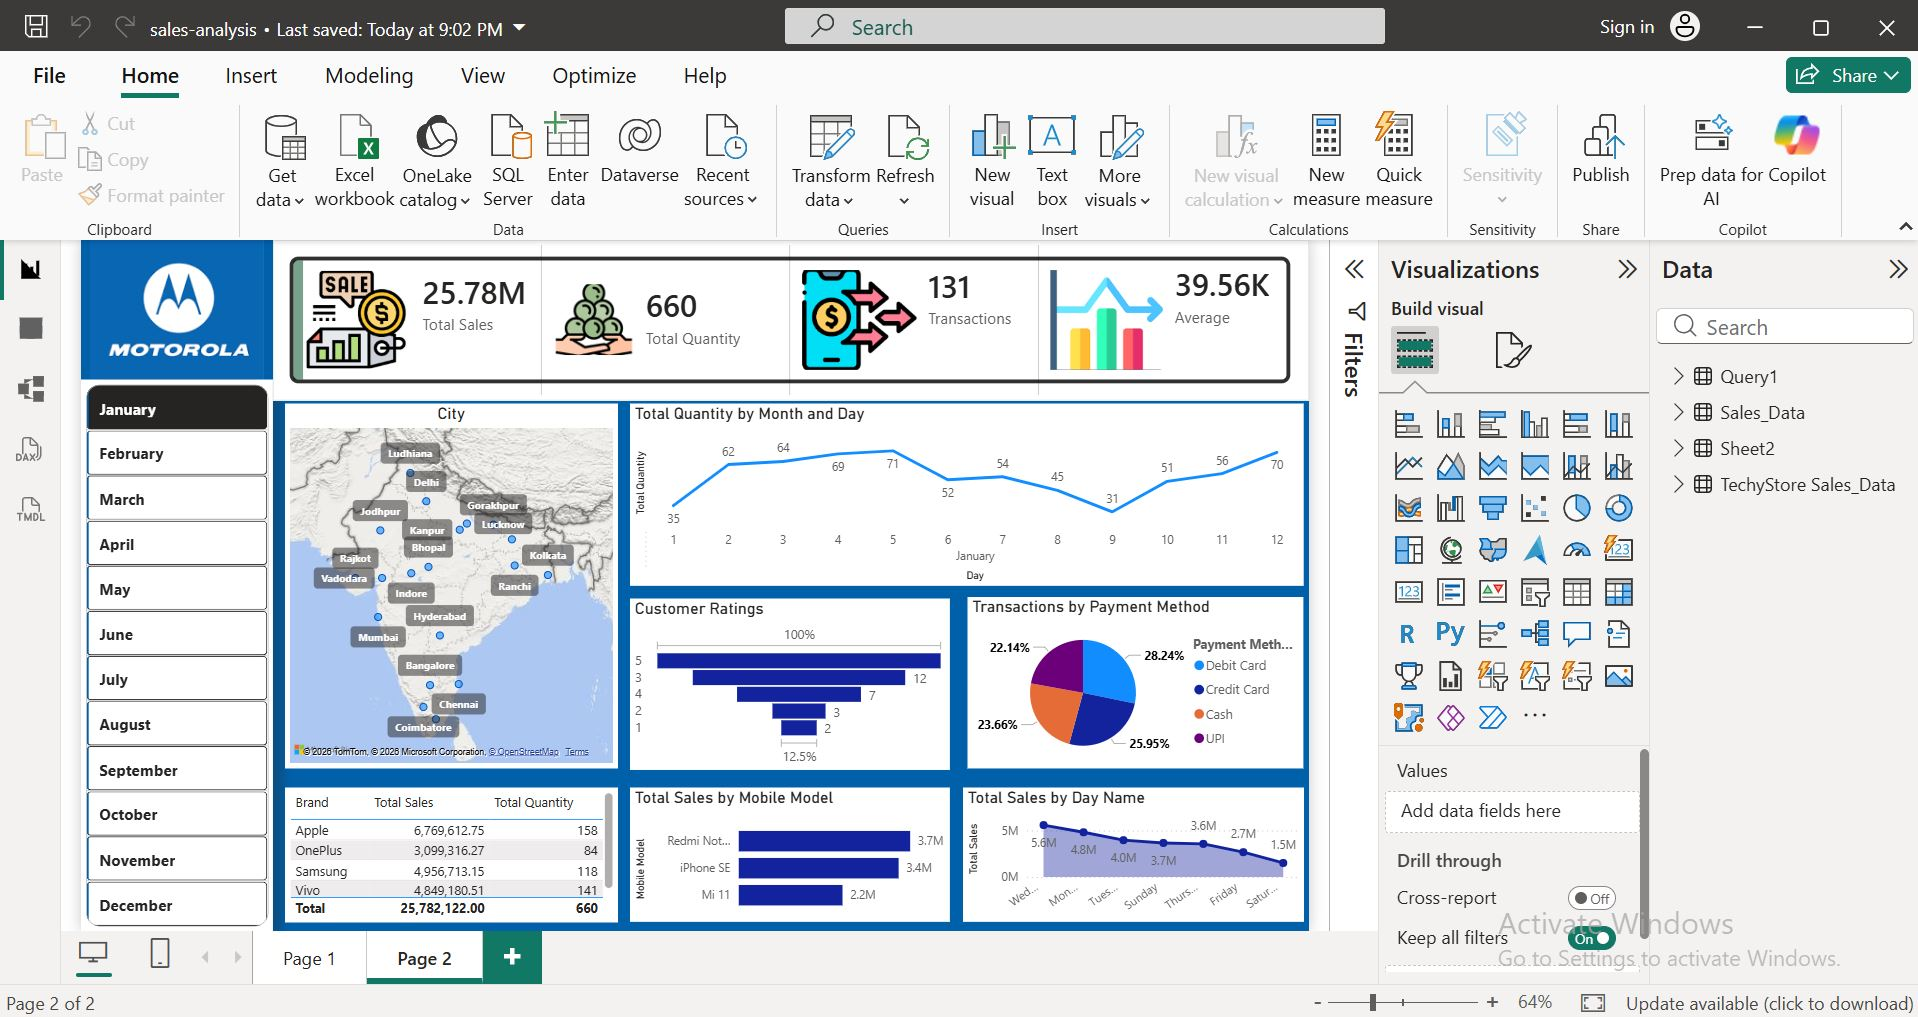

The dashboard page shown, as its layout file describes it:
{"tool":"powerbi","page":{"name":"Page 2","canvas":[1280,720],"ordinal":1},"visuals":[{"type":"shape","box":[0,145.4,200.1,575.2],"z":0},{"type":"image","box":[0,0,200.1,145.4],"z":1000},{"type":"advancedSlicerVisual","fields":{"Values":["Sales_Data.Date.Variation.Date Hierarchy.Month"]},"box":[0,145.4,200.1,575.2],"z":2000},{"type":"cardVisual","fields":{"Data":["Sales_Data.Total Sales","Sales_Data.Total Quantity","Sales_Data.Transactions","Sales_Data.Average"]},"box":[200,0,1080,166.7],"z":3000},{"type":"map","fields":{"Category":["Sales_Data.City"]},"box":[213.3,170,346.7,380],"z":4000},{"type":"lineChart","fields":{"Category":["Sales_Data.Date.Variation.Date Hierarchy.Month","Sales_Data.Date.Variation.Date Hierarchy.Day"],"Y":["Sales_Data.Total Quantity"]},"box":[571.7,170,701.7,190],"z":5000},{"type":"clusteredBarChart","fields":{"Category":["Sales_Data.Mobile Model"],"Y":["Sales_Data.Total Sales"]},"box":[571.7,570,333.3,140],"z":6000},{"type":"pieChart","fields":{"Category":["Sales_Data.Payment Method"],"Y":["Sales_Data.Transactions"]},"box":[923.3,371.7,350,178.3],"z":7000},{"type":"funnel","title":"Customer Ratings ","fields":{"Category":["Sales_Data.Customer Ratings"],"Y":["CountNonNull(Sales_Data.Customer Ratings)"]},"box":[571.7,373.3,333.3,178.3],"z":8000},{"type":"areaChart","fields":{"Category":["Sales_Data.Day Name"],"Y":["Sales_Data.Total Sales"]},"box":[918.3,570,355,140],"z":9000},{"type":"tableEx","fields":{"Values":["Sales_Data.Brand","Sales_Data.Total Sales","Sales_Data.Total Quantity"]},"box":[213.3,570,346.7,140],"z":10000}]}

Visuals, with their boxes on the page's 1280x720 design canvas (x1, y1, x2, y2). These are canvas units, not pixel positions in the 1918x1017 screenshot, which may show the page scaled, cropped or inside an application window:
shape: 0 145 200 721
image: 0 0 200 145
advancedSlicerVisual - Sales_Data.Date.Variation.Date Hierarchy.Month: 0 145 200 721
cardVisual - Sales_Data.Total Sales x Sales_Data.Total Quantity: 200 0 1280 167
map - Sales_Data.City: 213 170 560 550
lineChart - Sales_Data.Date.Variation.Date Hierarchy.Month x Sales_Data.Date.Variation.Date Hierarchy.Day: 572 170 1273 360
clusteredBarChart - Sales_Data.Mobile Model x Sales_Data.Total Sales: 572 570 905 710
pieChart - Sales_Data.Payment Method x Sales_Data.Transactions: 923 372 1273 550
"Customer Ratings " funnel: 572 373 905 552
areaChart - Sales_Data.Day Name x Sales_Data.Total Sales: 918 570 1273 710
tableEx - Sales_Data.Brand x Sales_Data.Total Sales: 213 570 560 710
